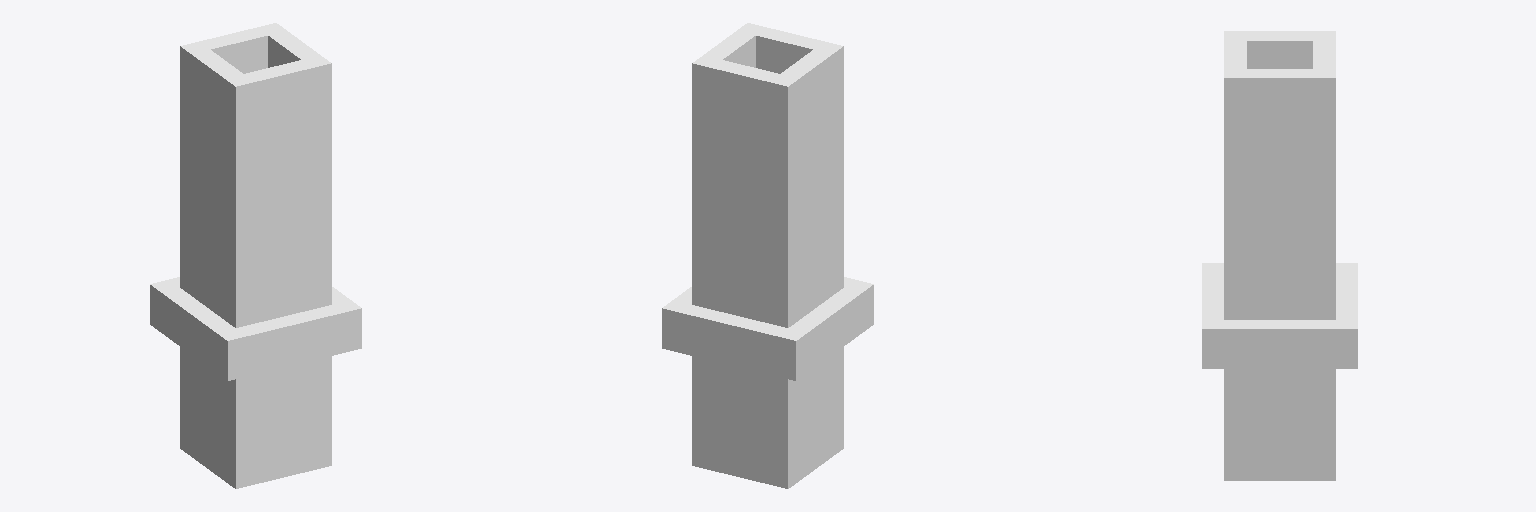
File: Cañon.obj
The picture shows the model from 3 angles: view 1: azimuth 30°, elevation 25°; view 2: azimuth 150°, elevation 25°; view 3: azimuth 270°, elevation 25°; orthographic projection.
Visible parts, largest first — view 1: object 1; view 2: object 1; view 3: object 1.
Part boxes in pixels (x1,y1,x2,y2): object 1: (150, 23, 361, 488); object 1: (662, 23, 873, 488); object 1: (1202, 31, 1357, 480).
Size of the model in its own units: 0.7 by 2 by 0.7.